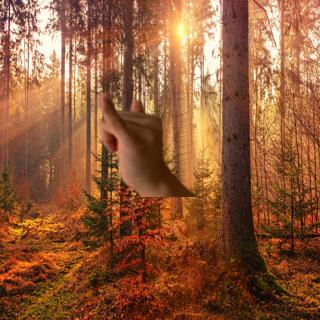HAVE: (87, 85, 177, 187)
